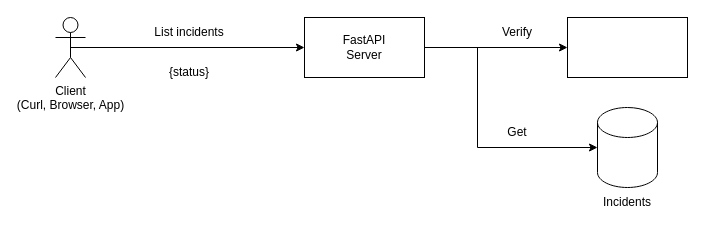
This 705x235 diagram has some shape labels left out. The shapes that lost their labels are listed below. From the top down, each one's centre as x and y in pixels, then its label:
At (x=627, y=47): "Verify Status".
At (x=627, y=147): "Postgress".
